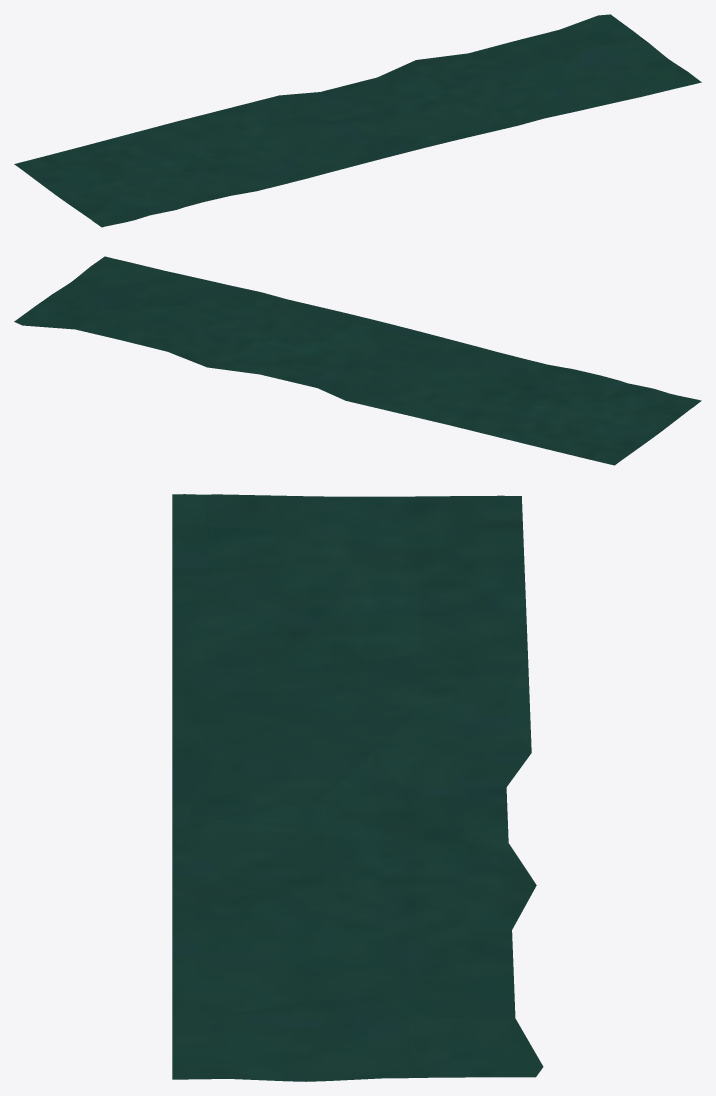
3 views of the same model, one above another, from view 1: azimuth 30°, elevation 25°; view 2: azimuth 150°, elevation 25°; view 3: azimuth 270°, elevation 25° (orthographic). The views are drawn at different scales.
Size of the model in its own units: 52.22 by 0.3906 by 14.05.
Materials: 1 (1 with a texture image).
